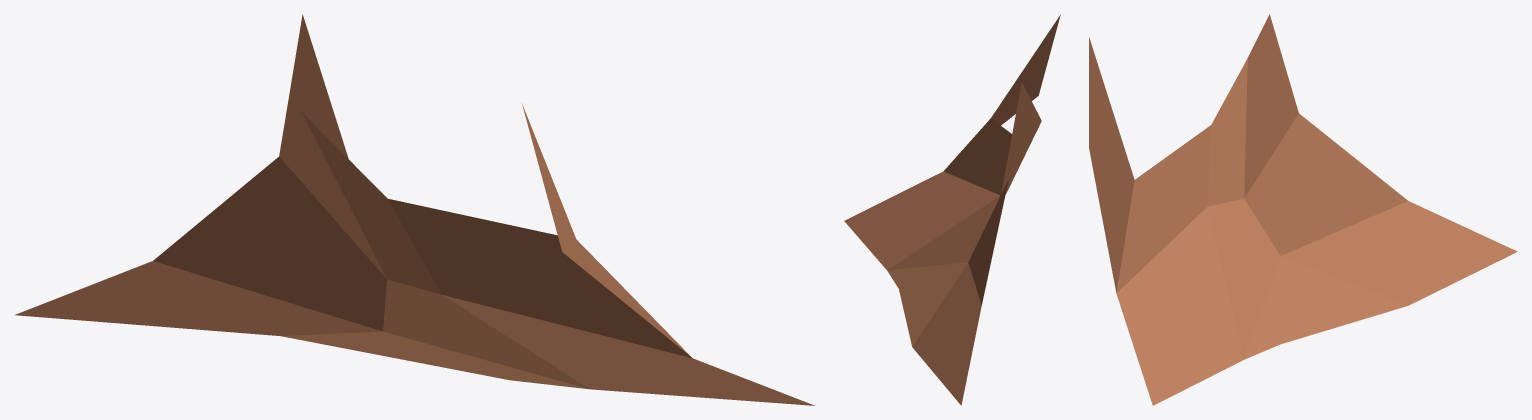
File: Corner Bottom Inverted E.fbx
The picture shows the model from 3 angles, left to right: view 1: azimuth 30°, elevation 25°; view 2: azimuth 150°, elevation 25°; view 3: azimuth 270°, elevation 25°; orthographic projection. The views are drawn at different scales.
Parts seen in each view (by area): view 1: Corner Bottom Inverted E; view 2: Corner Bottom Inverted E; view 3: Corner Bottom Inverted E.
Boxes of the visible parts, <box> form: Corner Bottom Inverted E: <box>14,14,814,405</box>; Corner Bottom Inverted E: <box>844,14,1060,405</box>; Corner Bottom Inverted E: <box>1089,14,1517,405</box>.
Size of the model in its own units: 50 by 40 by 58.75.
